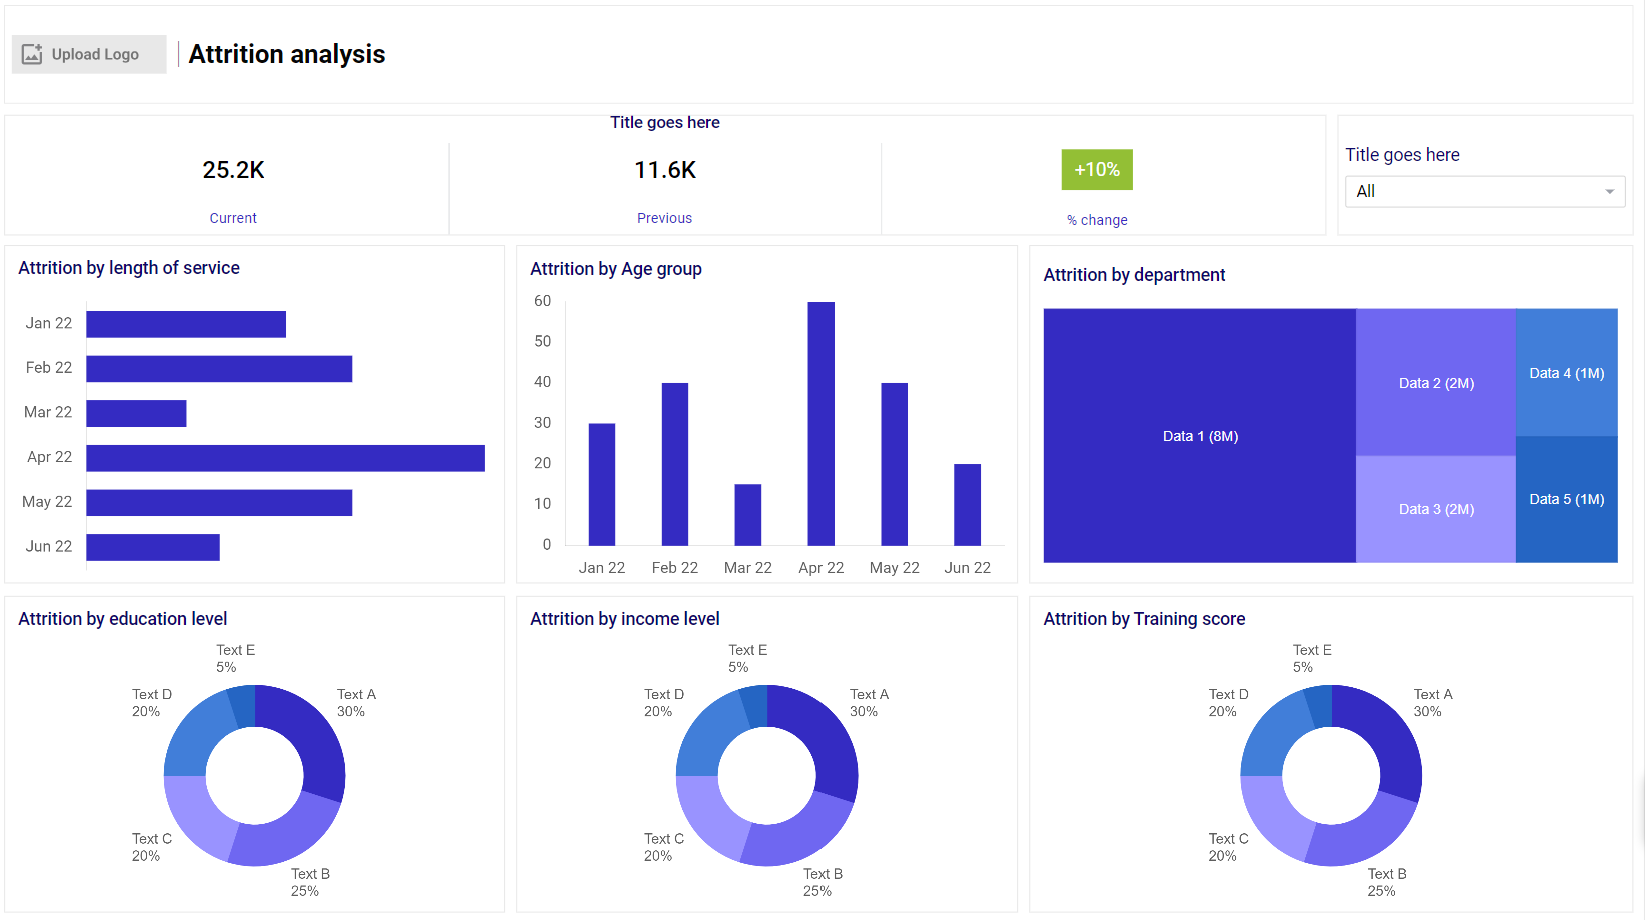

What the dashboard file says about the page in this screenshot:
{"tool":"powerbi","page":{"name":"Page 1","canvas":[1280,720],"ordinal":0},"visuals":[{"type":"shape","box":[9.8,0,1270.1,720],"z":0},{"type":"treemap","title":"Employee Attrition by Department","fields":{"Group":["emeraldemployeeviews.department"],"Values":["DAX Measures.Total Attrition"]},"box":[761.6,150.4,506.1,292.2],"z":1000},{"type":"clusteredBarChart","title":"Employee Attrition by Length of Service","fields":{"Y":["DAX Measures.Total Attrition"],"Category":["emeraldemployeeviews.length_of_service","emeraldemployeeviews.gender"]},"box":[36.7,150.4,345.9,292.2],"z":2000},{"type":"clusteredColumnChart","title":"Employee Attrition by Age Group","fields":{"Category":["emeraldemployeeviews.age","emeraldemployeeviews.gender"],"Y":["DAX Measures.Total Attrition"]},"box":[397.3,150.4,345.9,292.2],"z":3000},{"type":"donutChart","title":"Employee Attrition by Education Level","fields":{"Y":["DAX Measures.Total Attrition"],"Category":["emeraldemployeeviews.education"]},"box":[0,462.1,372.8,249.4],"z":4000},{"type":"donutChart","title":"Employee Attrition by Training Score","fields":{"Y":["DAX Measures.Total Attrition"],"Category":["emeraldemployeeviews.avg_training_score"]},"box":[434,470.6,372.8,249.4],"z":5000},{"type":"donutChart","title":"Employee Attrition by Monthly Income","fields":{"Y":["DAX Measures.Total Attrition"],"Category":["emeraldemployeeviews.MonthlyIncome"]},"box":[761.6,452.3,506.1,259.2],"z":6000},{"type":"textbox","box":[67.2,18.3,1146.6,31.8],"z":7000},{"type":"gauge","title":"Average Job Satisfaction","fields":{"Y":["DAX Measures.Average Job Satisfaction (Filtered)"],"MinValue":["Min(emeraldemployeeviews.JobSatisfaction)"],"MaxValue":["Max(emeraldemployeeviews.JobSatisfaction)1"]},"box":[570.4,60.3,360.6,61.7],"z":8000},{"type":"card","fields":{"Values":["DAX Measures.Total Employee"]},"box":[83.1,59.9,299.5,62.3],"z":9000},{"type":"card","fields":{"Values":["DAX Measures.Total Attrition"]},"box":[341.1,59.9,299.5,62.3],"z":10000},{"type":"slicer","fields":{"Values":["emeraldemployeeviews.gender"]},"box":[948.6,50.1,265.3,72.1],"z":11000}]}

Visuals, with their boxes in screenshot pixels (x1, y1, x2, y2), scaled from the page's 1280x720 canvas onto the 1645x920 screenshot:
shape: box(13, 0, 1644, 919)
"Employee Attrition by Department" treemap: box(979, 192, 1629, 566)
"Employee Attrition by Length of Service" clusteredBarChart: box(47, 192, 492, 566)
"Employee Attrition by Age Group" clusteredColumnChart: box(511, 192, 955, 566)
"Employee Attrition by Education Level" donutChart: box(0, 590, 479, 909)
"Employee Attrition by Training Score" donutChart: box(558, 601, 1037, 919)
"Employee Attrition by Monthly Income" donutChart: box(979, 578, 1629, 909)
textbox: box(86, 23, 1560, 64)
"Average Job Satisfaction" gauge: box(733, 77, 1196, 156)
card - DAX Measures.Total Employee: box(107, 77, 492, 156)
card - DAX Measures.Total Attrition: box(438, 77, 823, 156)
slicer - emeraldemployeeviews.gender: box(1219, 64, 1560, 156)
